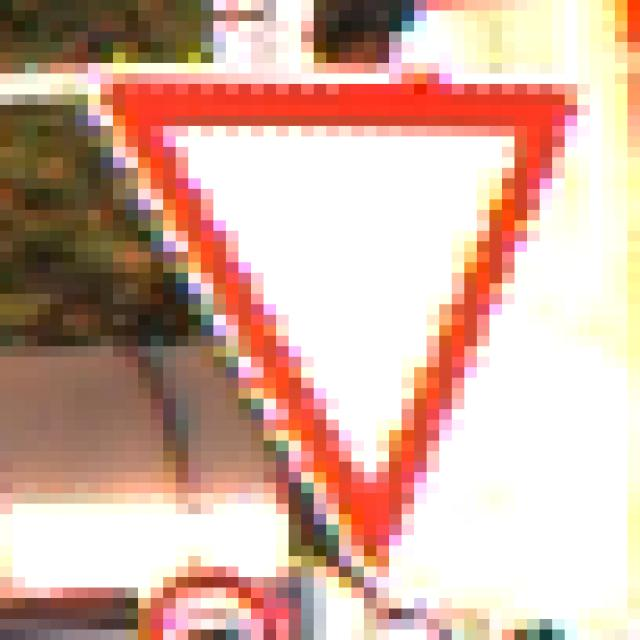Give Way: (77, 54, 579, 589)
